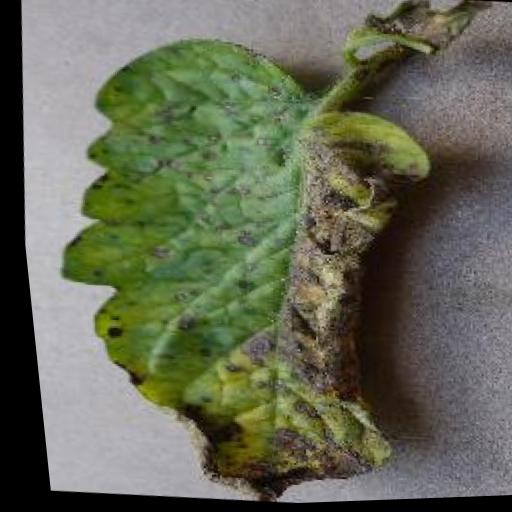Early Blight: (16, 24, 469, 512)
